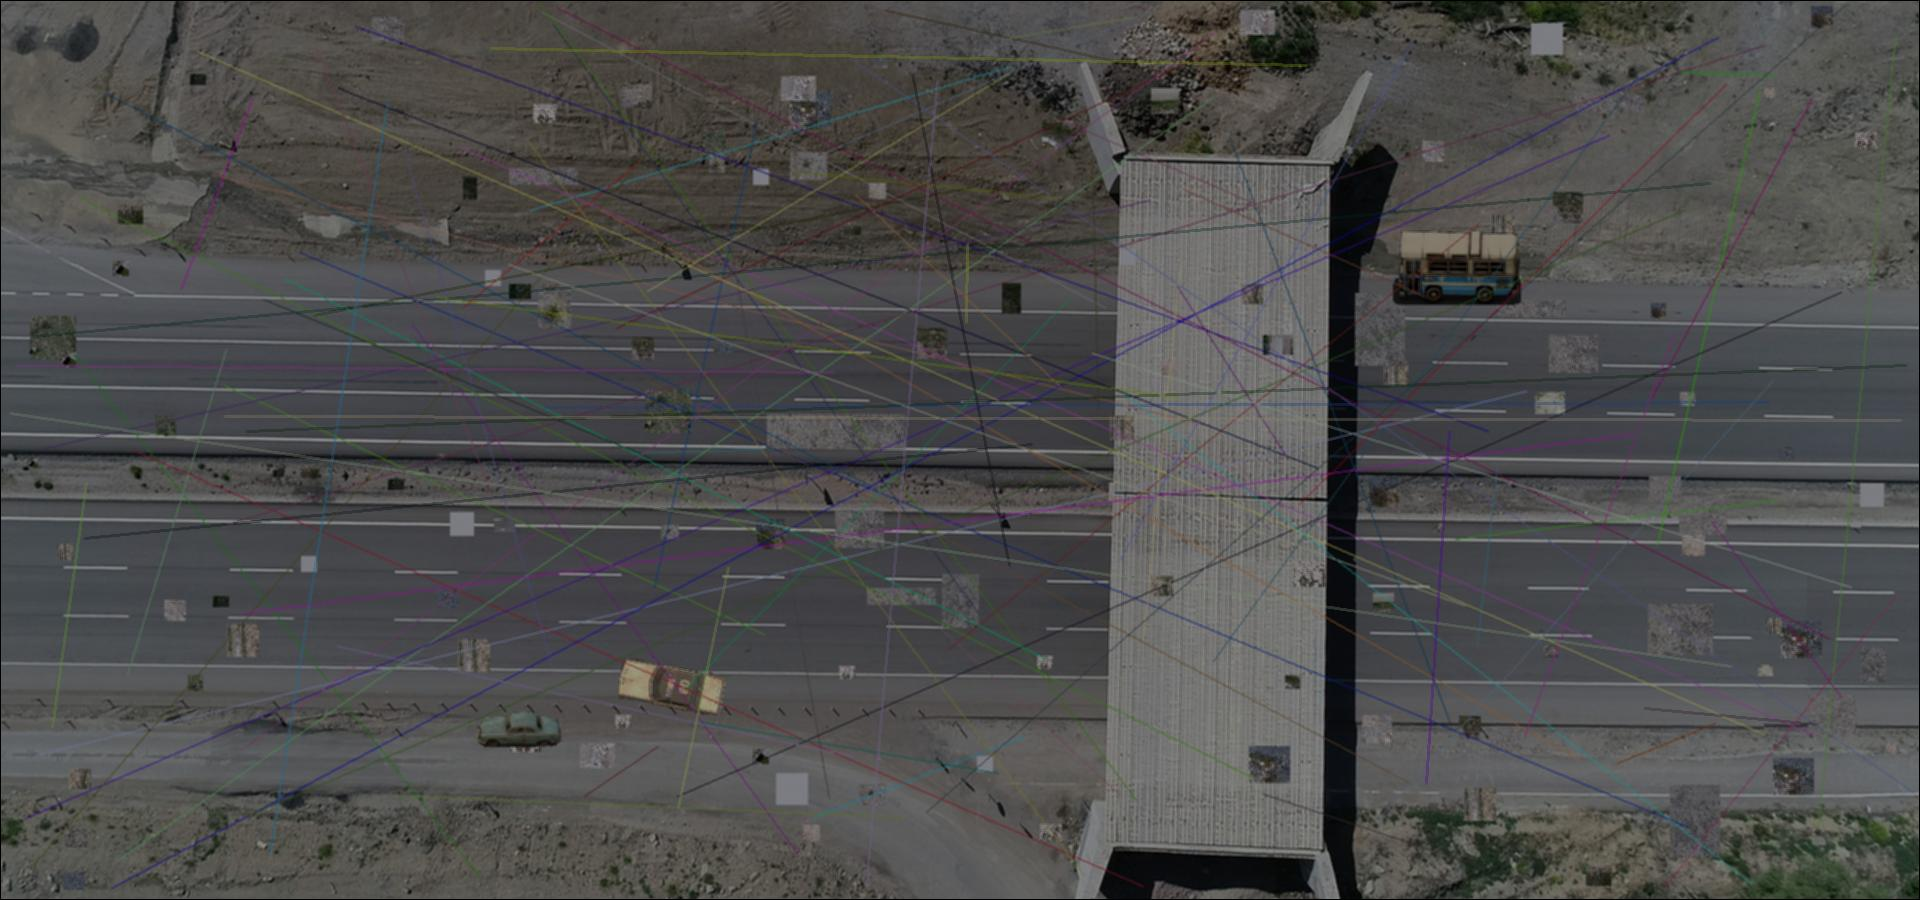arac: (1391, 228, 1521, 305), (618, 656, 726, 715), (475, 711, 561, 747)
